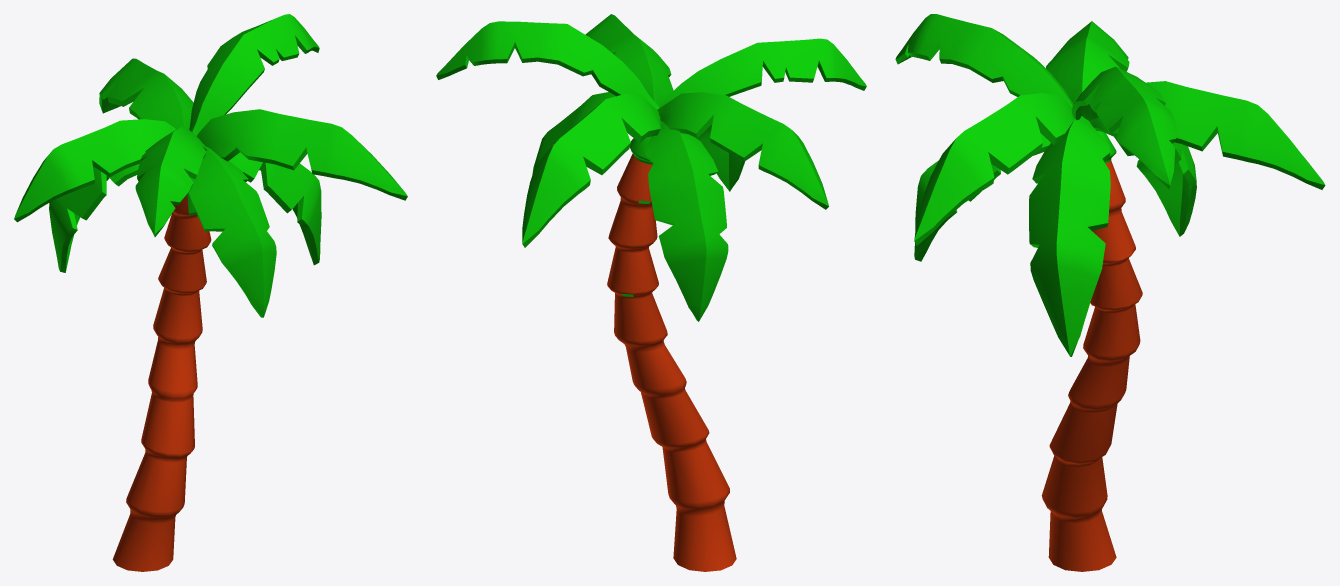
3 renders of one model, left to right at view 1: azimuth 30°, elevation 25°; view 2: azimuth 150°, elevation 25°; view 3: azimuth 270°, elevation 25°, orthographic. The views are drawn at different scales.
Parts seen in each view (by area): view 1: top; view 2: top; view 3: top.
Part boxes in pixels (bbox=[...]): top: bbox=[14, 14, 407, 571]; top: bbox=[436, 14, 866, 571]; top: bbox=[895, 14, 1325, 571].
Size of the model in its own units: 2.61 by 3.59 by 2.52.
